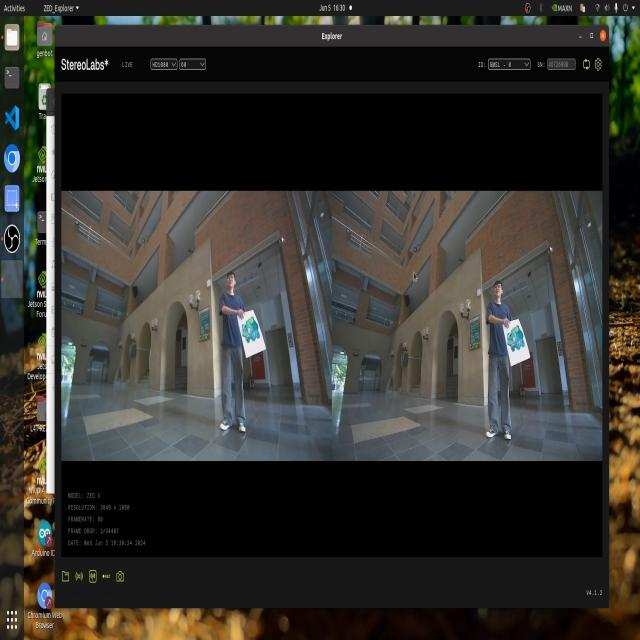green: (240, 304, 259, 349), (505, 317, 524, 358)
